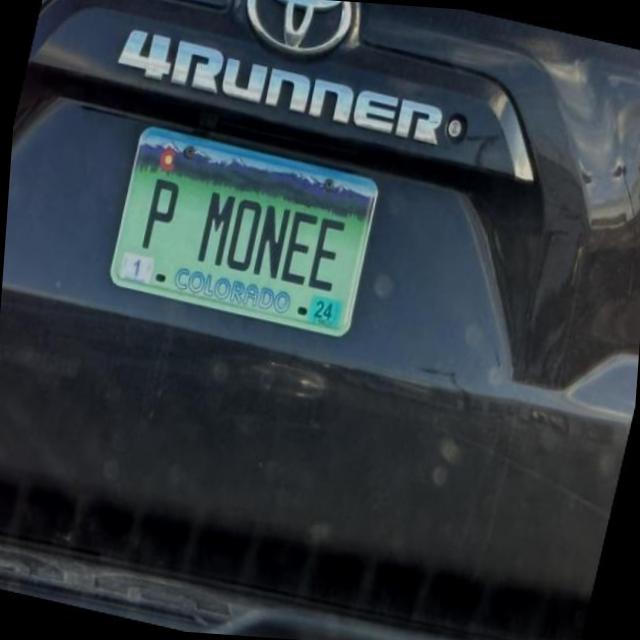LicensePlate: (103, 123, 382, 342)
